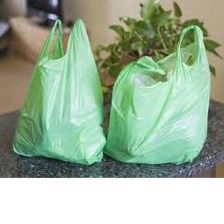plastic_bag: (100, 22, 212, 166), (8, 14, 108, 167)
